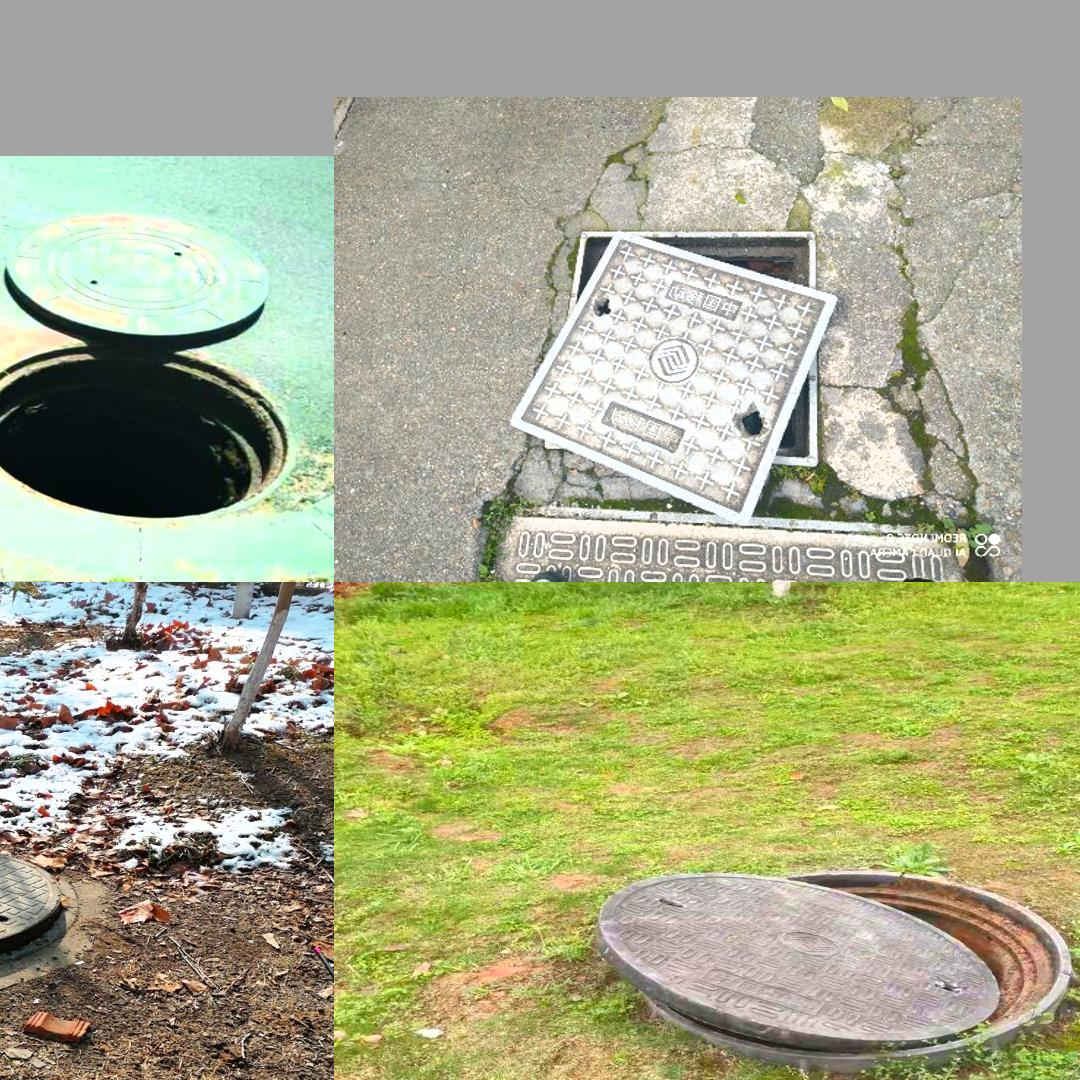uncovered: (0, 191, 305, 527), (595, 868, 1077, 1070), (509, 228, 840, 520), (0, 837, 76, 961)
